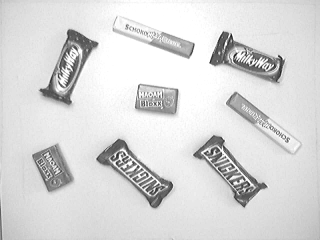Maoam: (31, 141, 75, 193), (133, 81, 181, 117)
Milkyway: (36, 26, 102, 108), (206, 29, 287, 88)
Riegel: (223, 90, 304, 158), (110, 13, 198, 62)
Snickers: (191, 131, 270, 212), (94, 136, 177, 211)
